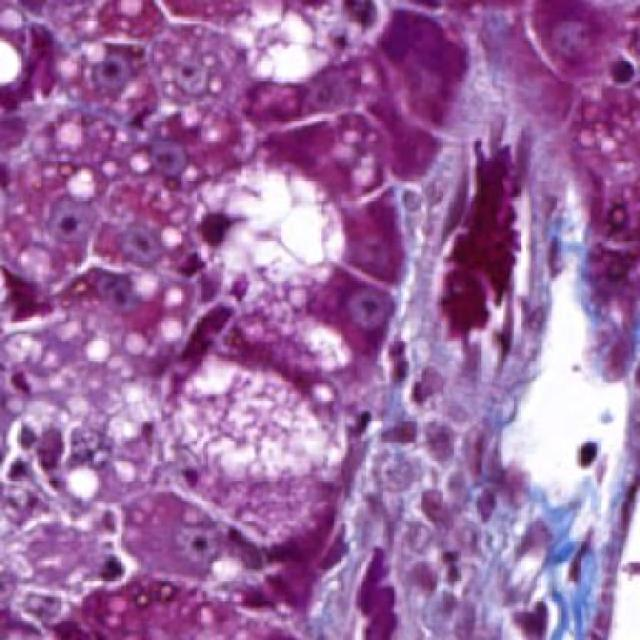ballooning: (183, 160, 351, 299)
